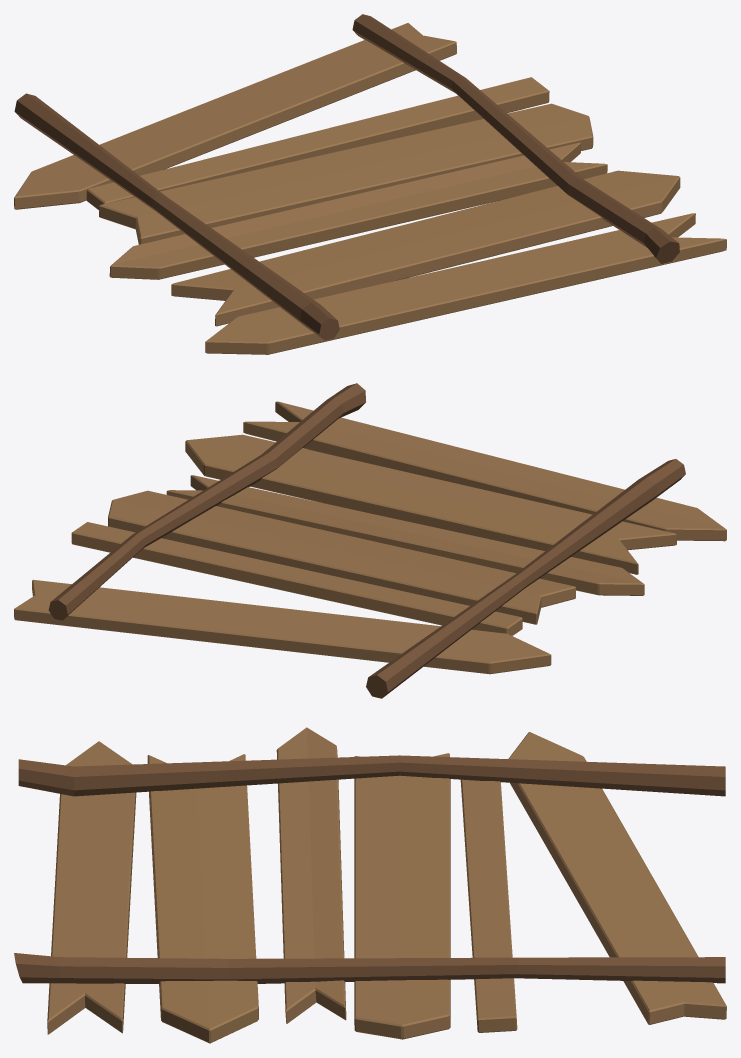
The model's file is Panel_23.fbx.
3 renders of one model, top to bottom at view 1: azimuth 30°, elevation 25°; view 2: azimuth 150°, elevation 25°; view 3: azimuth 270°, elevation 25°, orthographic. The views are drawn at different scales.
Visible parts, largest first — view 1: Poteau 2*6 fleches LOW.001; view 2: Poteau 2*6 fleches LOW.001; view 3: Poteau 2*6 fleches LOW.001.
Boxes of the visible parts, left/top/right/bottom form: Poteau 2*6 fleches LOW.001: left=14, top=14, right=726, bottom=354; Poteau 2*6 fleches LOW.001: left=14, top=383, right=726, bottom=698; Poteau 2*6 fleches LOW.001: left=14, top=727, right=726, bottom=1043.
Size of the model in its own units: 157 by 12.61 by 161.
